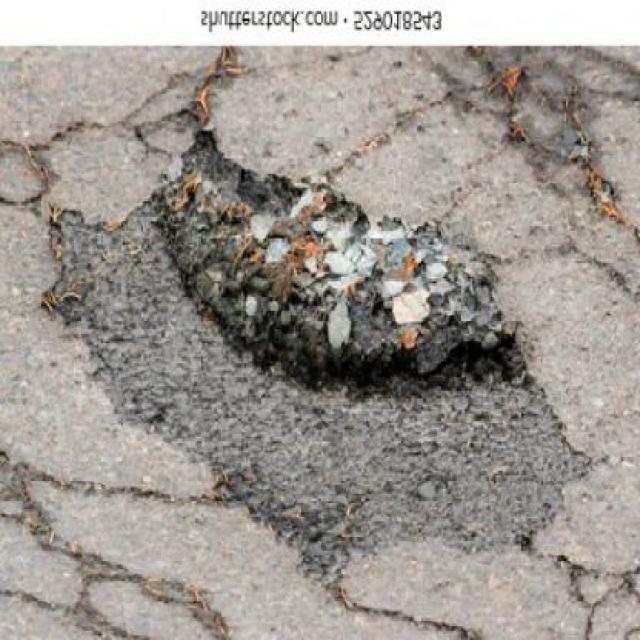Pothole: (132, 85, 552, 425)
